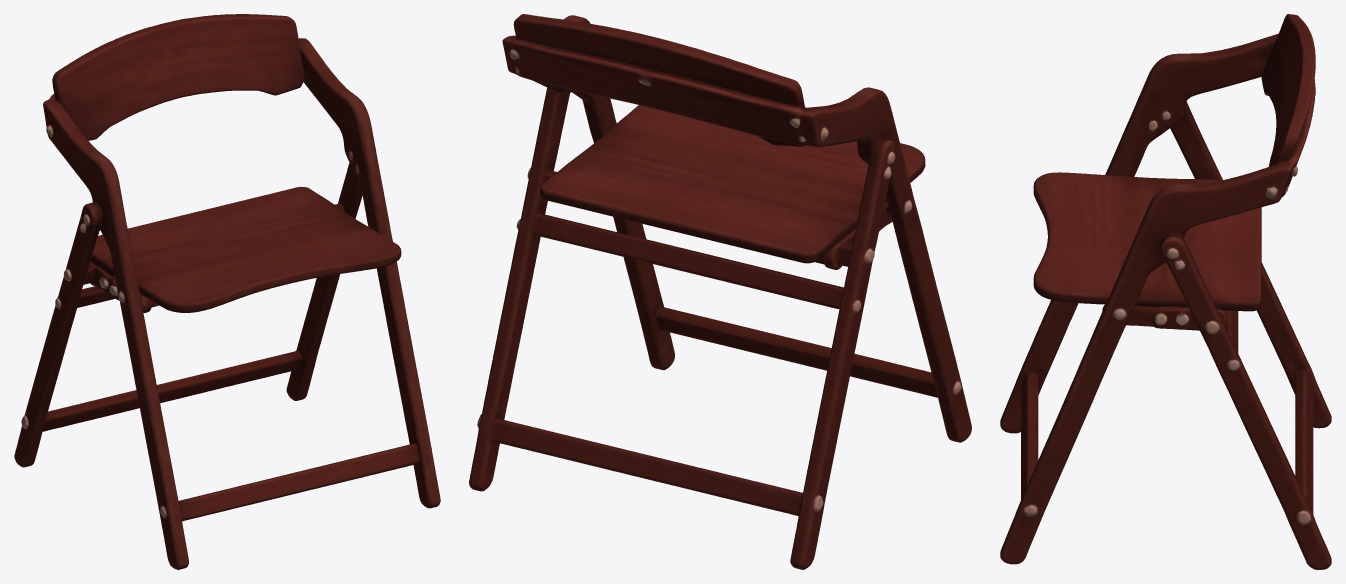
Rendered from AccentChair.glb.
The picture shows the model from 3 angles, left to right: view 1: azimuth 30°, elevation 25°; view 2: azimuth 150°, elevation 25°; view 3: azimuth 270°, elevation 25°; orthographic projection. The views are drawn at different scales.
Visible parts, largest first — view 1: world; view 2: world; view 3: world.
Part boxes in pixels (x1,y1,x2,y2): world: [14, 14, 440, 569]; world: [469, 14, 971, 569]; world: [1000, 14, 1331, 569].
Bounding box in the file's own units: 0.7425 × 1 × 0.6869.
1 material, 1 textured.
